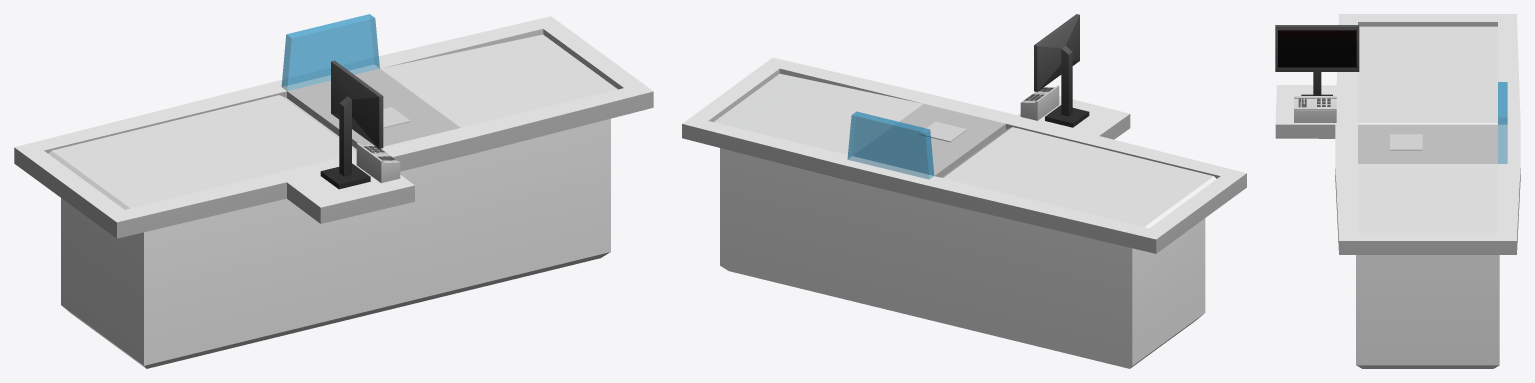
The model's file is checkout_white.fbx.
3 views of the same model, side by side, from view 1: azimuth 30°, elevation 25°; view 2: azimuth 150°, elevation 25°; view 3: azimuth 270°, elevation 25° (orthographic). The views are drawn at different scales.
Parts seen in each view (by area): view 1: checkout_white, monitor, register_white; view 2: checkout_white, monitor, register_white; view 3: checkout_white, monitor, register_white.
Boxes of the visible parts, bbox=[...] form: checkout_white: bbox=[14, 14, 653, 368]; monitor: bbox=[320, 60, 383, 189]; register_white: bbox=[356, 143, 400, 183]; checkout_white: bbox=[682, 57, 1246, 368]; monitor: bbox=[1034, 14, 1089, 127]; register_white: bbox=[1020, 85, 1059, 120]; checkout_white: bbox=[1275, 14, 1520, 368]; monitor: bbox=[1275, 25, 1359, 95]; register_white: bbox=[1294, 96, 1336, 122].
Bounding box in the file's own units: 1571 × 739 × 718.
